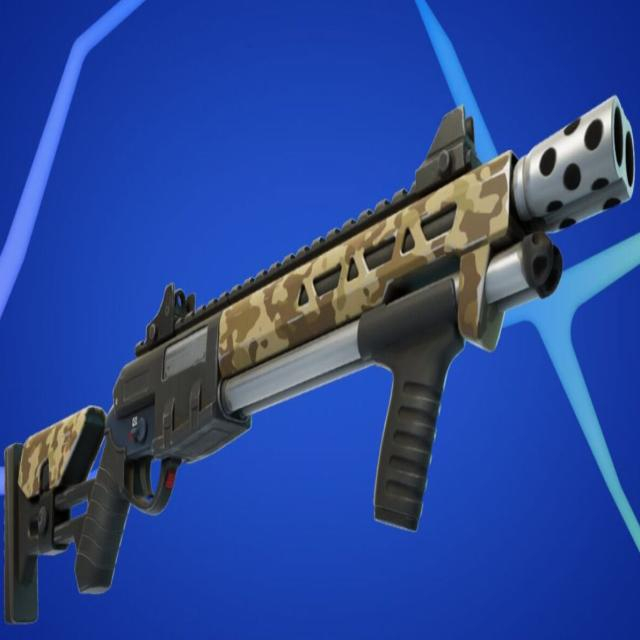Weapon: (4, 96, 634, 622)
